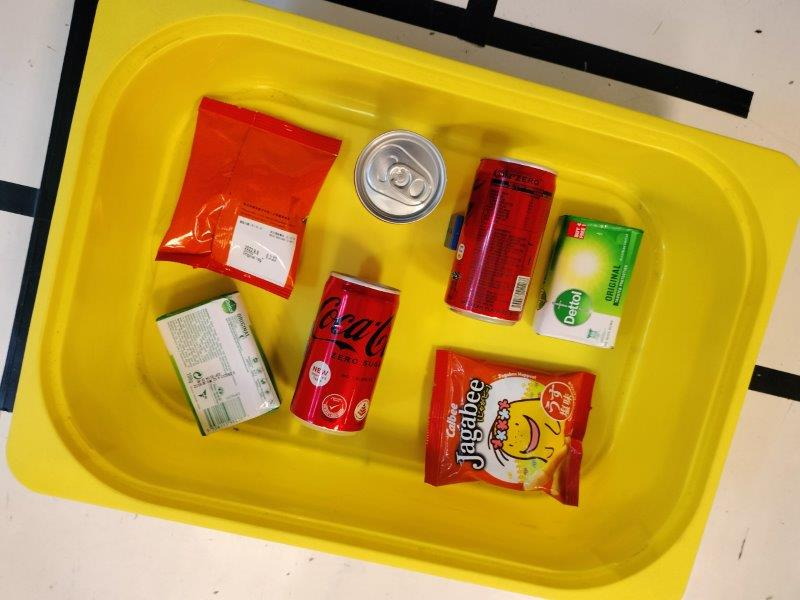Coke: (445, 154, 558, 327), (288, 271, 400, 437), (353, 130, 445, 223)
Dettol: (157, 289, 281, 436), (534, 213, 645, 351)
Jagabee: (155, 96, 342, 301), (424, 348, 599, 508)
